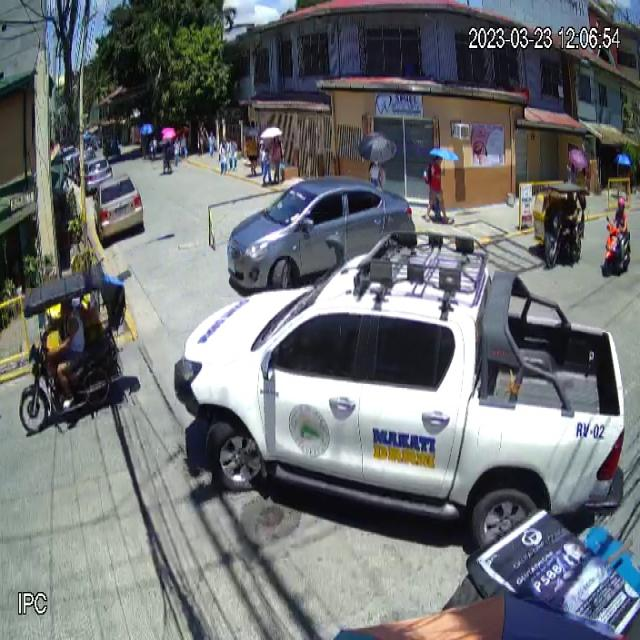Car: (172, 226, 626, 555), (225, 178, 418, 290)
Tricycle: (18, 259, 134, 437)
